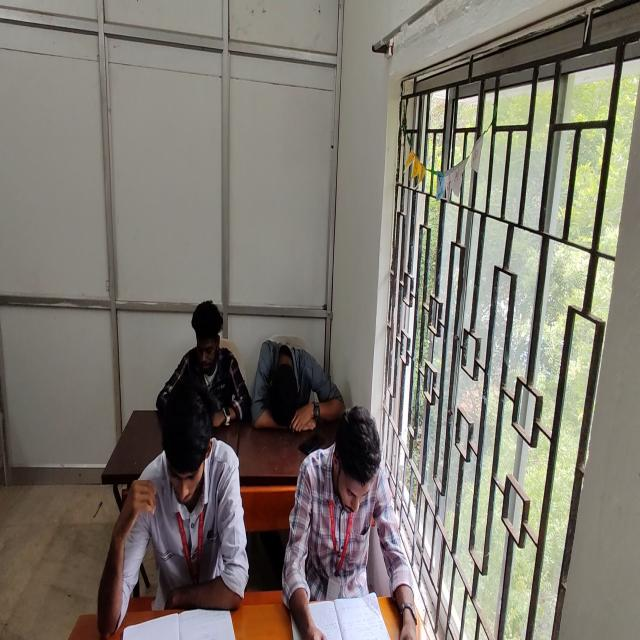reading: (100, 386, 249, 636), (289, 405, 411, 640)
sleeping: (252, 339, 343, 430)
using_mobile: (156, 298, 252, 429)
